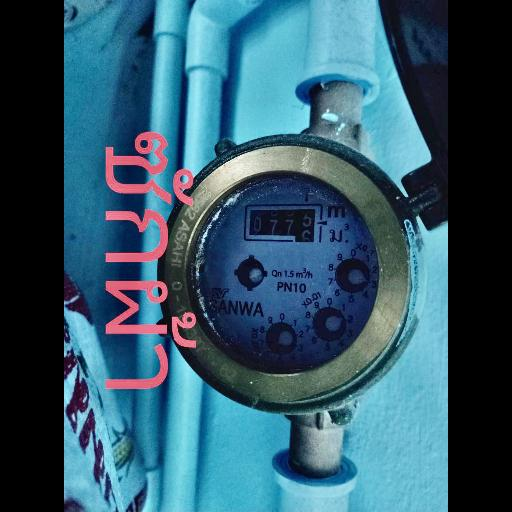0: (249, 209, 264, 236)
5: (295, 208, 315, 243)
7: (264, 209, 283, 236), (281, 208, 297, 236)
border_water_meter_number: (244, 202, 323, 243)
